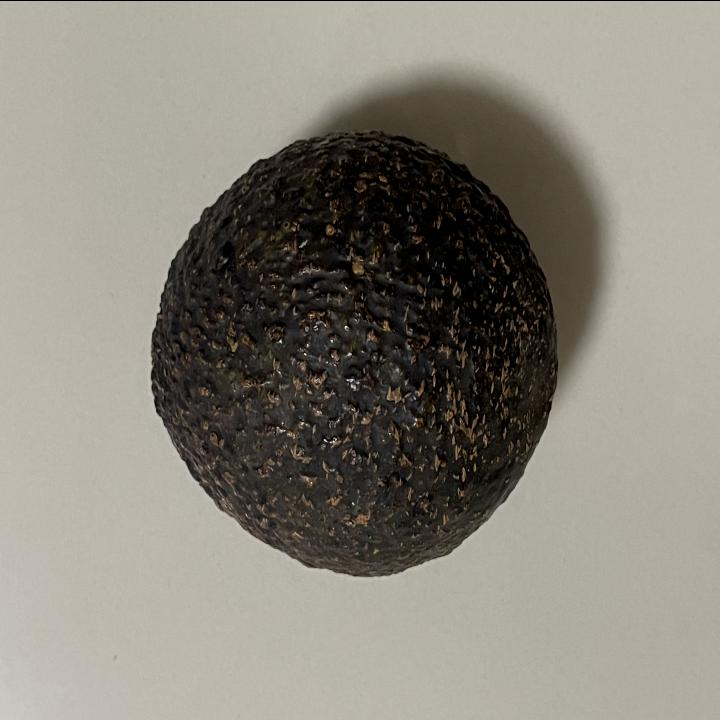Level2: (144, 122, 564, 592)
